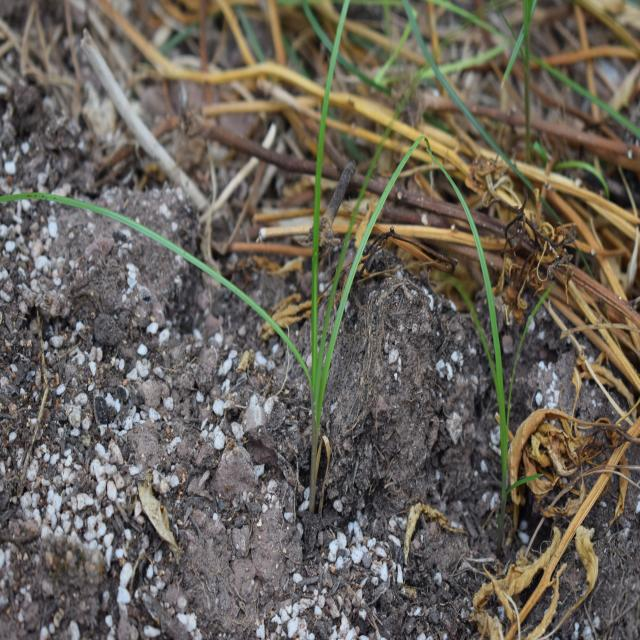sedge: (21, 22, 434, 467)
